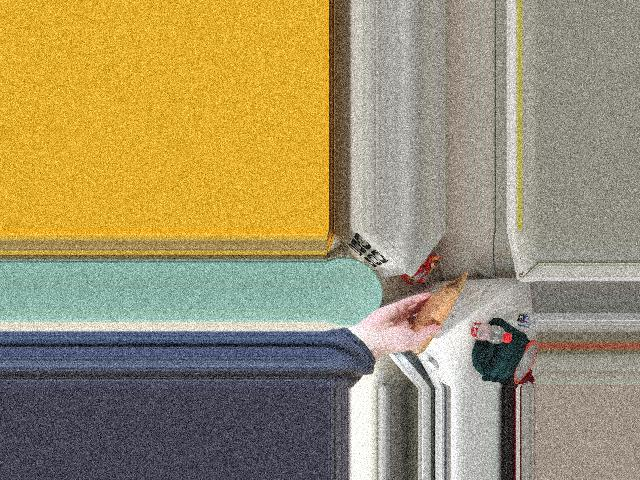sweet_potato: (402, 299, 447, 351)
